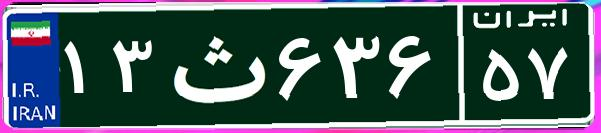1: (57, 26, 110, 107)
3: (330, 28, 385, 110), (110, 28, 158, 105)
5: (475, 38, 525, 113)
6: (385, 28, 445, 110), (273, 28, 330, 110)
7: (525, 38, 570, 115)
ث: (158, 15, 273, 115)
